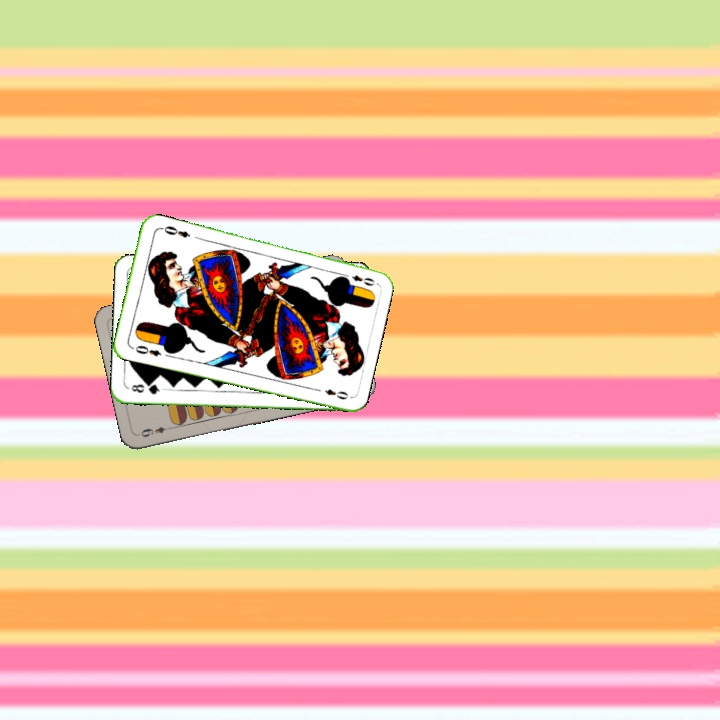E9: (137, 422, 175, 440)
EO: (338, 269, 377, 288), (127, 341, 164, 359)
G8: (127, 380, 166, 397)
